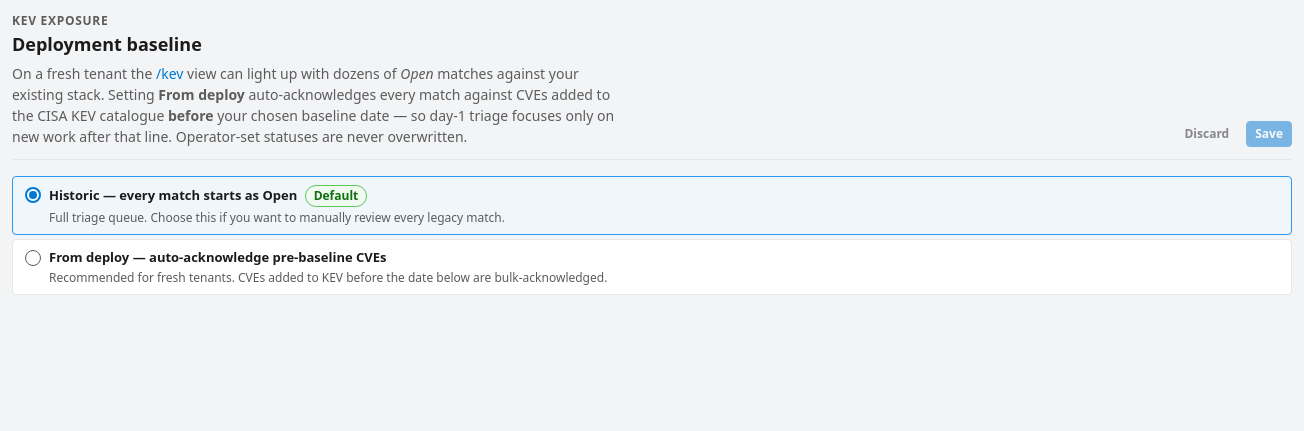
Test: KevBaselineSection › reveals the date input when operator selects from-deploy
Click the radio button that starts with "From deploy": (89, 257) left=12, top=239, right=1292, bottom=295
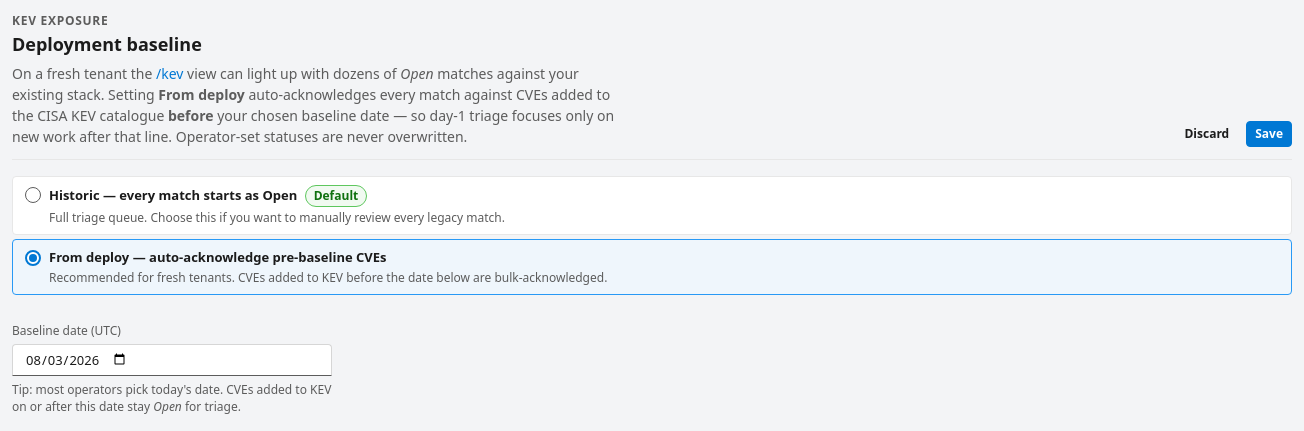
Expected: the date field labelled "Baseline date (UTC)" is shown, left=12, top=344, right=332, bottom=376
